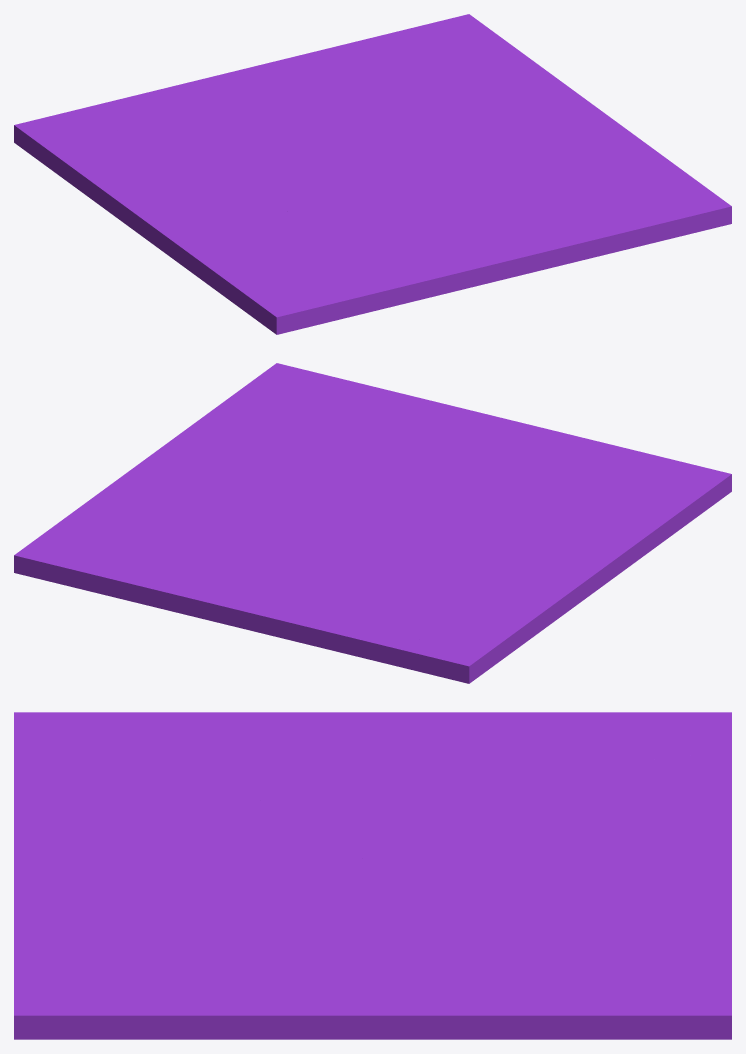
Rendered from Platform_44_chunks.fbx.
The picture shows the model from 3 angles, top to bottom: view 1: azimuth 30°, elevation 25°; view 2: azimuth 150°, elevation 25°; view 3: azimuth 270°, elevation 25°; orthographic projection. The views are drawn at different scales.
Visible parts, largest first — view 1: Platform_44_1, Platform_44_0, Platform_44_5, Platform_44_7, Platform_44_4, Platform_44_3, Platform_44_2, Platform_44_11, Platform_44_12, Platform_44_9, Platform_44_10, Platform_44_6 (+1 smaller); view 2: Platform_44_1, Platform_44_0, Platform_44_4, Platform_44_5, Platform_44_7, Platform_44_2, Platform_44_3, Platform_44_11, Platform_44_12, Platform_44_9, Platform_44_10, Platform_44_6 (+1 smaller); view 3: Platform_44_1, Platform_44_0, Platform_44_4, Platform_44_5, Platform_44_7, Platform_44_3, Platform_44_11, Platform_44_2, Platform_44_9, Platform_44_12, Platform_44_6, Platform_44_10 (+1 smaller).
Boxes of the visible parts, box(x1,y1,x2,y2) form: Platform_44_1: box(197, 14, 615, 161); Platform_44_0: box(368, 121, 731, 250); Platform_44_5: box(228, 229, 416, 334); Platform_44_7: box(378, 199, 620, 300); Platform_44_4: box(71, 80, 310, 166); Platform_44_3: box(240, 134, 369, 228); Platform_44_2: box(14, 111, 193, 187); Platform_44_11: box(64, 161, 260, 200); Platform_44_12: box(164, 199, 249, 298); Platform_44_9: box(220, 186, 305, 277); Platform_44_10: box(80, 180, 206, 283); Platform_44_6: box(307, 176, 427, 230); Platform_44_1: box(14, 448, 365, 640); Platform_44_0: box(160, 363, 430, 517); Platform_44_4: box(287, 553, 453, 658); Platform_44_5: box(523, 440, 731, 526); Platform_44_7: box(408, 400, 591, 475); Platform_44_2: box(367, 582, 530, 683); Platform_44_3: box(339, 507, 536, 562); Platform_44_11: box(441, 545, 543, 638); Platform_44_12: box(521, 503, 691, 566); Platform_44_9: box(472, 504, 663, 553); Platform_44_10: box(535, 543, 661, 635); Platform_44_6: box(397, 480, 534, 510); Platform_44_1: box(306, 834, 731, 1039); Platform_44_0: box(14, 854, 385, 1039); Platform_44_4: box(461, 750, 731, 854); Platform_44_5: box(14, 712, 240, 815); Platform_44_7: box(14, 805, 235, 912); Platform_44_3: box(240, 787, 503, 865); Platform_44_11: box(380, 712, 593, 796); Platform_44_2: box(507, 712, 731, 777); Platform_44_9: box(145, 726, 390, 793); Platform_44_12: box(123, 712, 407, 763); Platform_44_6: box(224, 788, 345, 870); Platform_44_10: box(324, 712, 526, 747).
Bounding box in the file's own units: 810 × 29.87 × 810.
